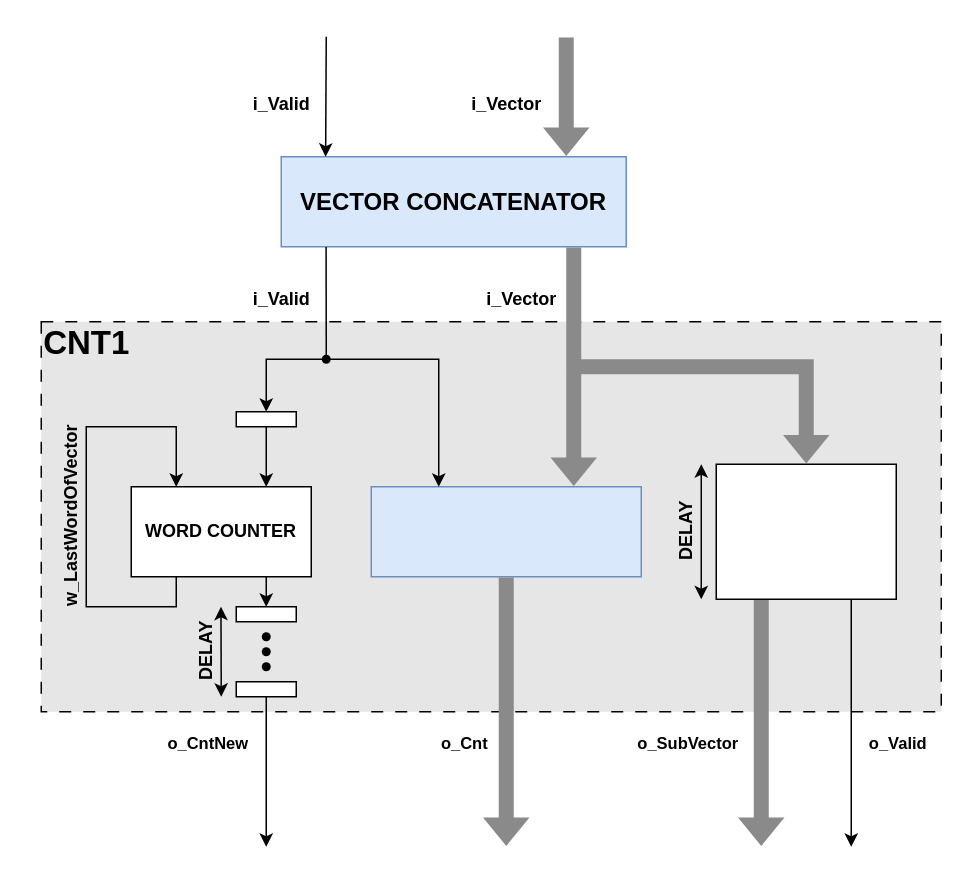
The diagram is 968 pixels wide and 885 high, and some of its shapes have lost their labels. Here are the shapes that lost their labels. From the top down, the centre of each, then its label:
At (x=505, y=531): "BIT COUNTER".
At (x=805, y=531): "VECTOR SHIFTREG".
